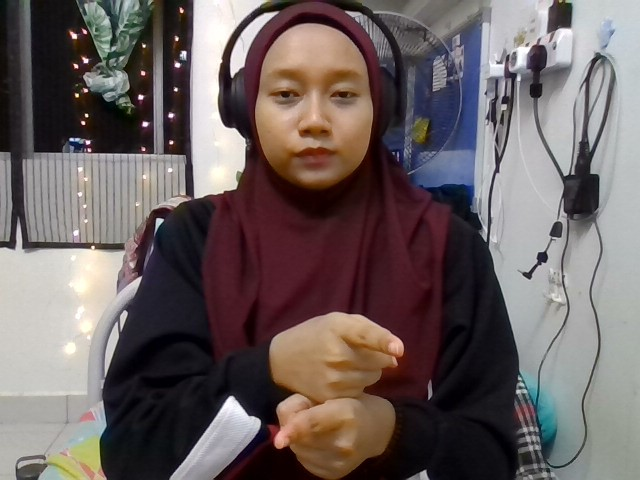Betul: (269, 311, 404, 480)
